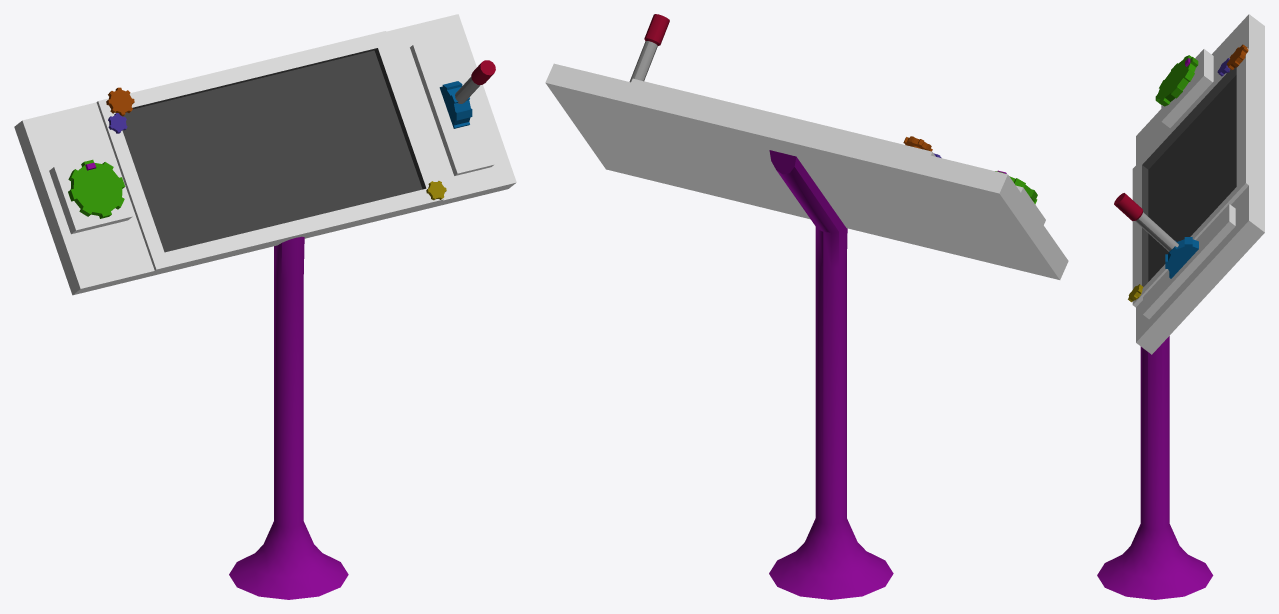
File: kanon-controller.fbx
3 renders of one model, left to right at view 1: azimuth 30°, elevation 25°; view 2: azimuth 150°, elevation 25°; view 3: azimuth 270°, elevation 25°, orthographic. The views are drawn at different scales.
Parts seen in each view (by area): view 1: Cannon-Display, Cannon-RotateGear, Cannon-Leger; view 2: Cannon-Display, Cannon-Leger; view 3: Cannon-Display, Cannon-Leger, Cannon-RotateGear.
Part boxes in pixels (x1=…): Cannon-Display: x1=14, y1=14, x2=516, y2=599; Cannon-RotateGear: x1=68, y1=159, x2=125, y2=218; Cannon-Leger: x1=439, y1=60, x2=495, y2=128; Cannon-Display: x1=545, y1=63, x2=1068, y2=599; Cannon-Leger: x1=629, y1=14, x2=669, y2=82; Cannon-Display: x1=1097, y1=14, x2=1264, y2=599; Cannon-Leger: x1=1114, y1=193, x2=1198, y2=278; Cannon-RotateGear: x1=1155, y1=55, x2=1198, y2=106.
Bounding box in the file's own units: 118 × 125 × 40.43.
